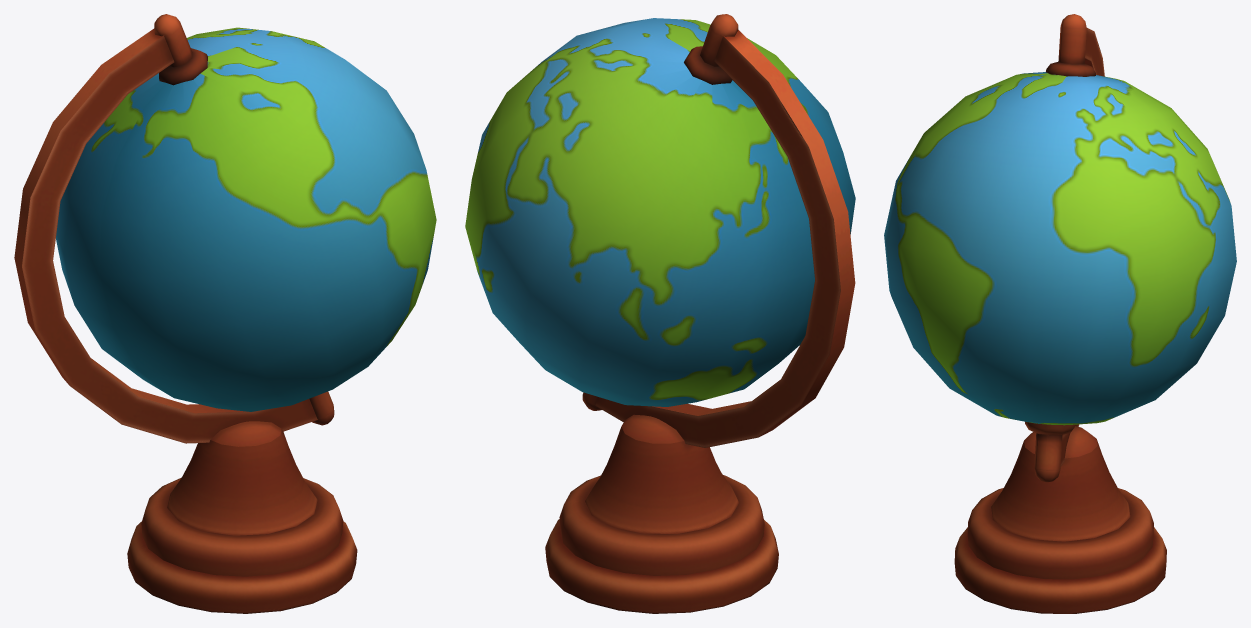
File: AnimeChibi-SchoolPack2-Globe.fbx
3 views of the same model, side by side, from view 1: azimuth 30°, elevation 25°; view 2: azimuth 150°, elevation 25°; view 3: azimuth 270°, elevation 25° (orthographic). The views are drawn at different scales.
Parts seen in each view (by area): view 1: globe; view 2: globe; view 3: globe.
Part boxes in pixels (box(x1,y1,x2,y2)): globe: box(14, 14, 436, 613); globe: box(465, 14, 855, 613); globe: box(884, 14, 1236, 613).
Size of the model in its own units: 7 by 10.13 by 6.19.
